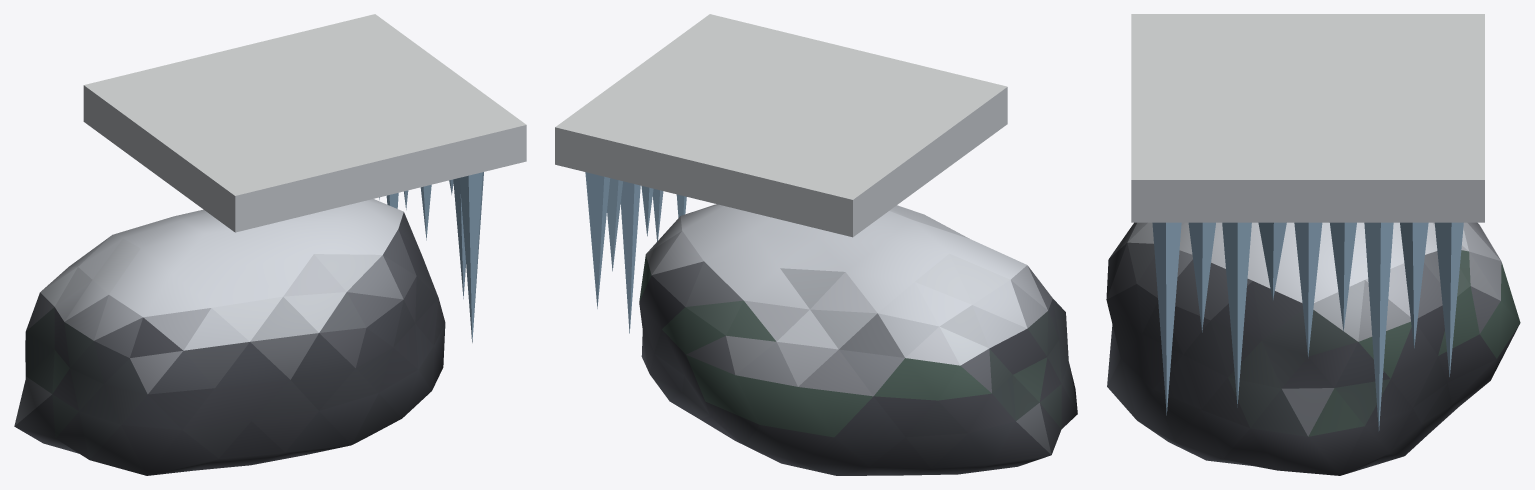
Rendered from icicle_cluster.glb.
3 views of the same model, side by side, from view 1: azimuth 30°, elevation 25°; view 2: azimuth 150°, elevation 25°; view 3: azimuth 270°, elevation 25° (orthographic). The views are drawn at different scales.
Parts seen in each view (by area): view 1: icicle_cluster; view 2: icicle_cluster; view 3: icicle_cluster.
Part boxes in pixels (x1,y1,x2,y2): icicle_cluster: (14,14,526,475); icicle_cluster: (555,14,1077,475); icicle_cluster: (1106,14,1520,475).
Bounding box in the file's own units: 0.7263 × 0.45 × 0.527.
